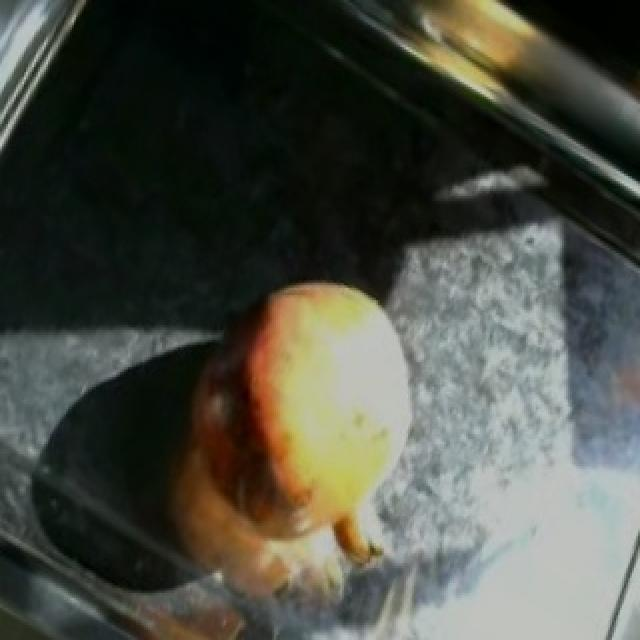fruit: (172, 256, 440, 491)
